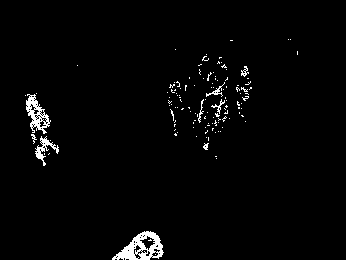person: (25, 92, 61, 167)
